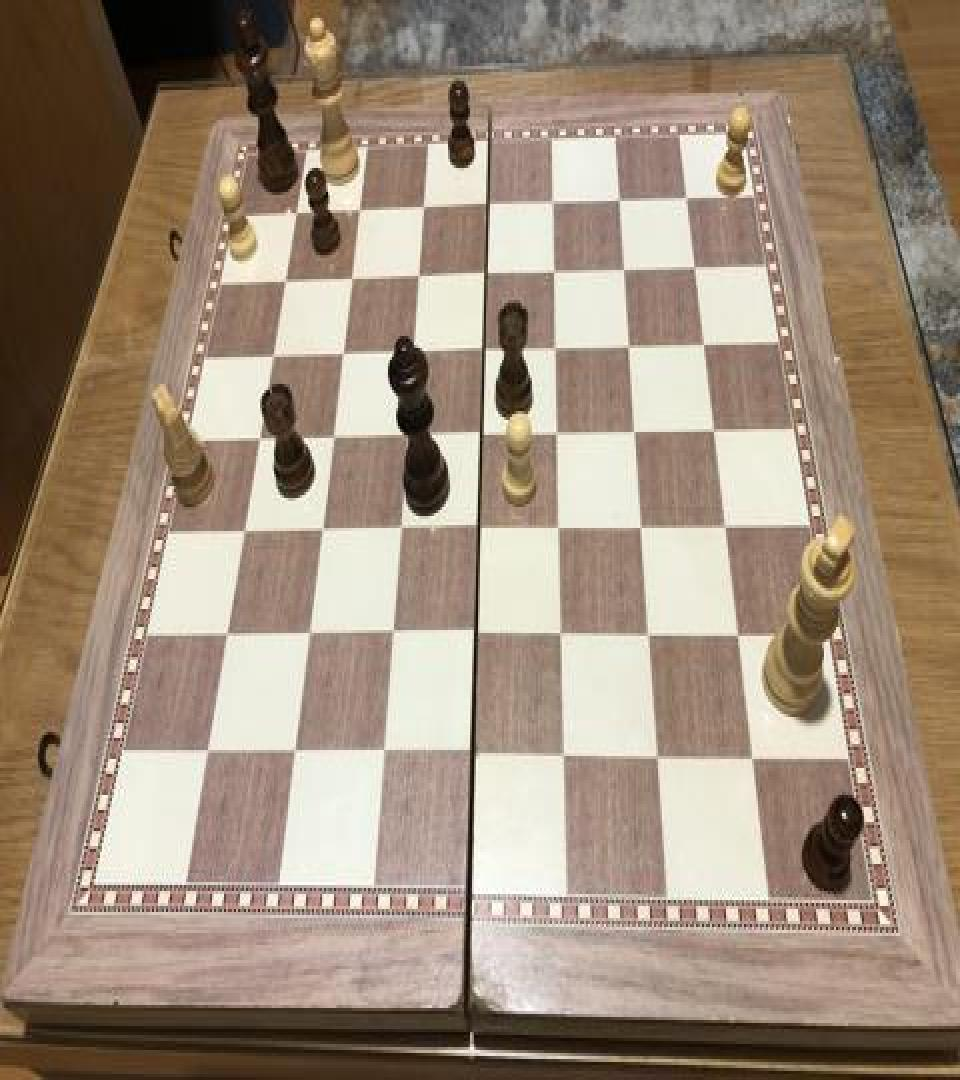xcorner: (729, 616, 753, 653), (640, 616, 664, 653), (553, 616, 577, 653), (467, 616, 491, 653), (382, 616, 406, 653), (299, 616, 323, 653), (216, 616, 240, 653), (198, 733, 222, 770), (673, 182, 697, 218), (606, 184, 630, 220), (540, 186, 564, 222), (475, 189, 499, 225), (410, 192, 434, 228), (346, 194, 370, 230), (283, 196, 307, 232), (682, 250, 706, 286), (612, 252, 636, 288), (542, 255, 566, 291), (473, 256, 497, 292), (338, 261, 362, 297), (272, 264, 296, 300), (692, 327, 716, 363), (544, 332, 568, 368), (472, 333, 496, 369), (401, 334, 425, 370), (330, 336, 354, 372), (260, 339, 284, 375), (624, 414, 648, 450), (547, 416, 571, 452), (471, 417, 495, 453), (395, 418, 419, 454), (321, 420, 345, 456), (247, 422, 271, 458), (715, 508, 739, 544), (632, 508, 656, 544), (550, 510, 574, 546), (469, 510, 493, 546), (389, 512, 413, 548), (310, 513, 334, 549), (232, 513, 256, 549), (745, 738, 769, 774), (650, 738, 674, 774), (557, 736, 581, 772), (465, 736, 489, 772), (374, 735, 398, 771), (285, 735, 309, 771), (405, 260, 429, 295), (618, 329, 642, 364), (703, 413, 727, 448)
